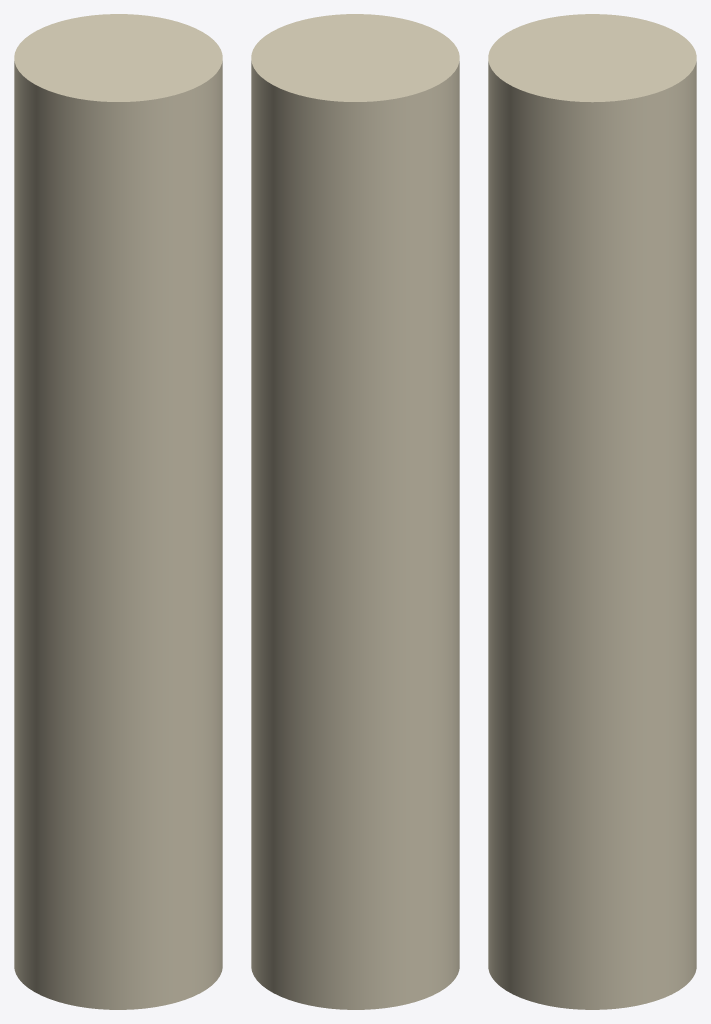
Rendered from spark-plug-center-electrode.glb.
3 renders of one model, left to right at view 1: azimuth 30°, elevation 25°; view 2: azimuth 150°, elevation 25°; view 3: azimuth 270°, elevation 25°, orthographic.
Visible parts, largest first — view 1: world; view 2: world; view 3: world.
Boxes of the visible parts, x1=… form: world: x1=14, y1=14, x2=222, y2=1009; world: x1=251, y1=14, x2=459, y2=1009; world: x1=488, y1=14, x2=696, y2=1009.
Size of the model in its own units: 0.0025 by 0.012 by 0.0025.
